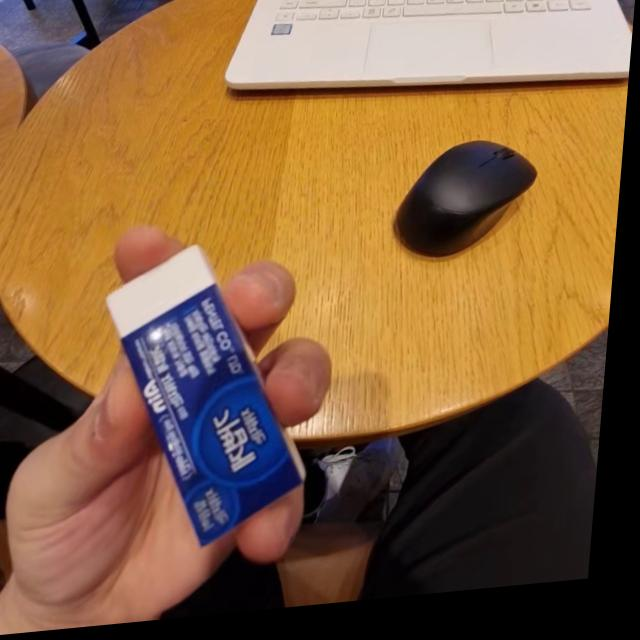grab_eraser: (0, 216, 325, 639)
mouse: (398, 142, 561, 274)
